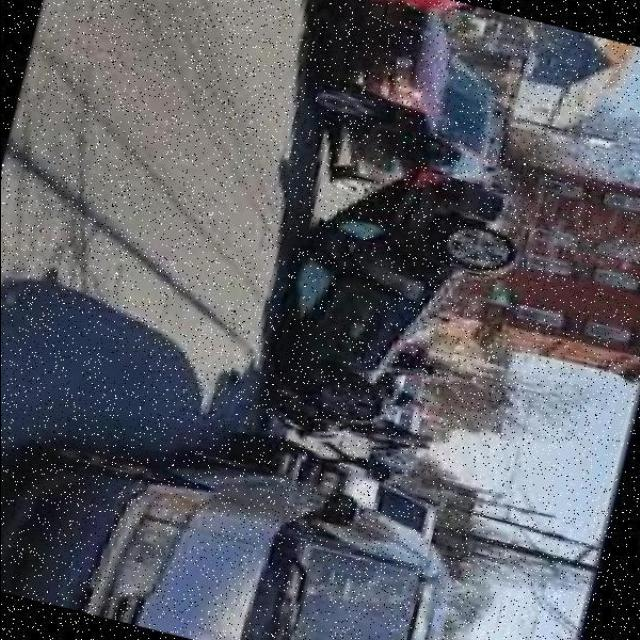accident: (223, 54, 551, 478)
